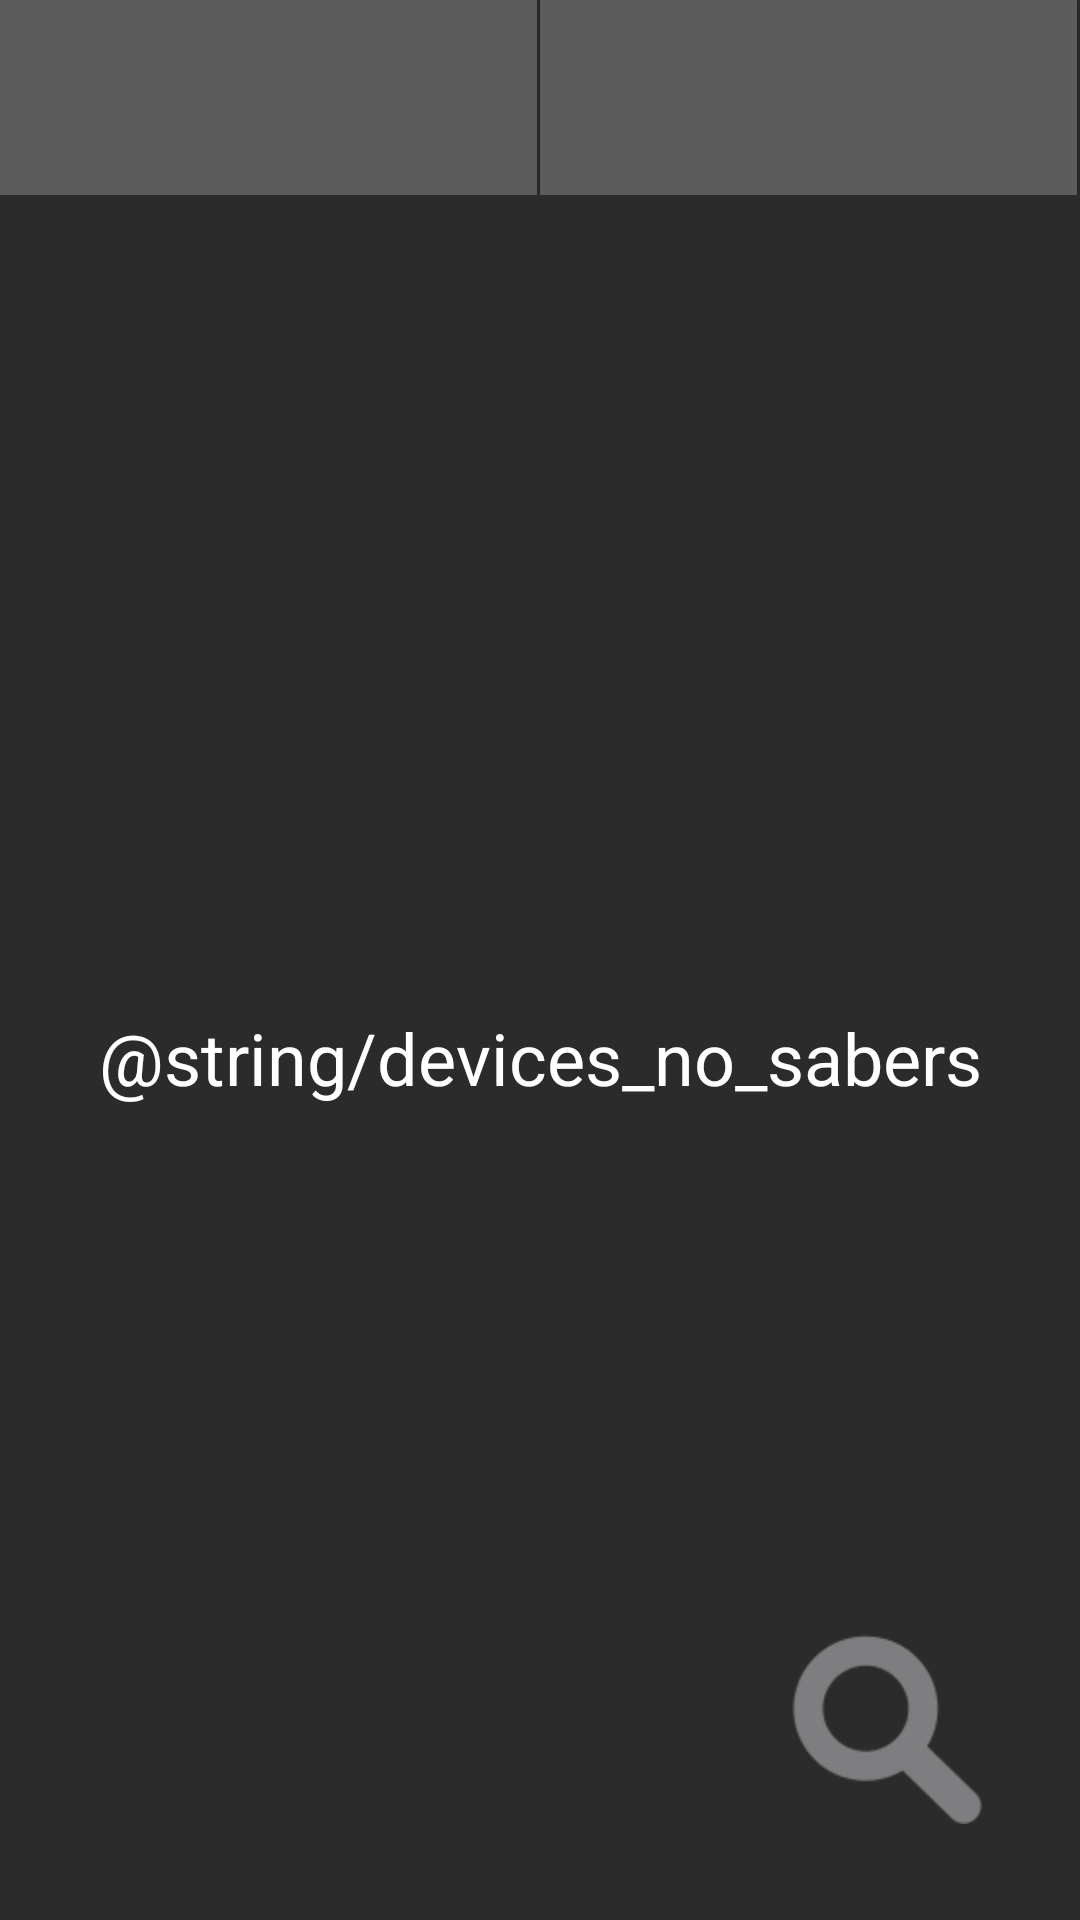

Icons on this 1080w x 1920h Android screen, each with the point to tap as point (x, y):
search: point (887, 1730)
